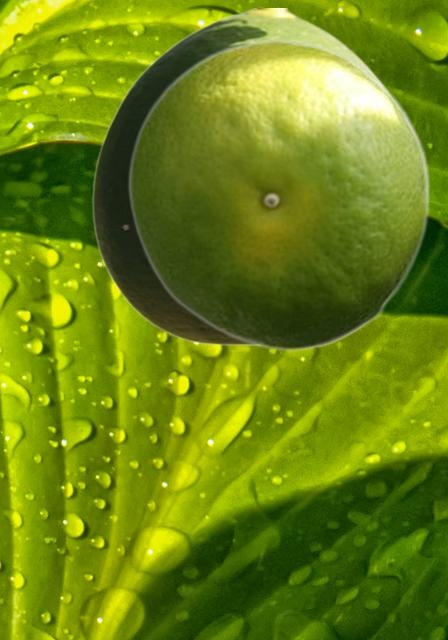dalandan: (91, 8, 390, 347), (127, 37, 429, 351)
